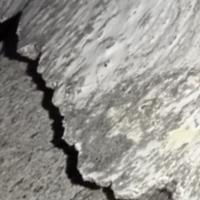crack: (0, 15, 126, 199)
